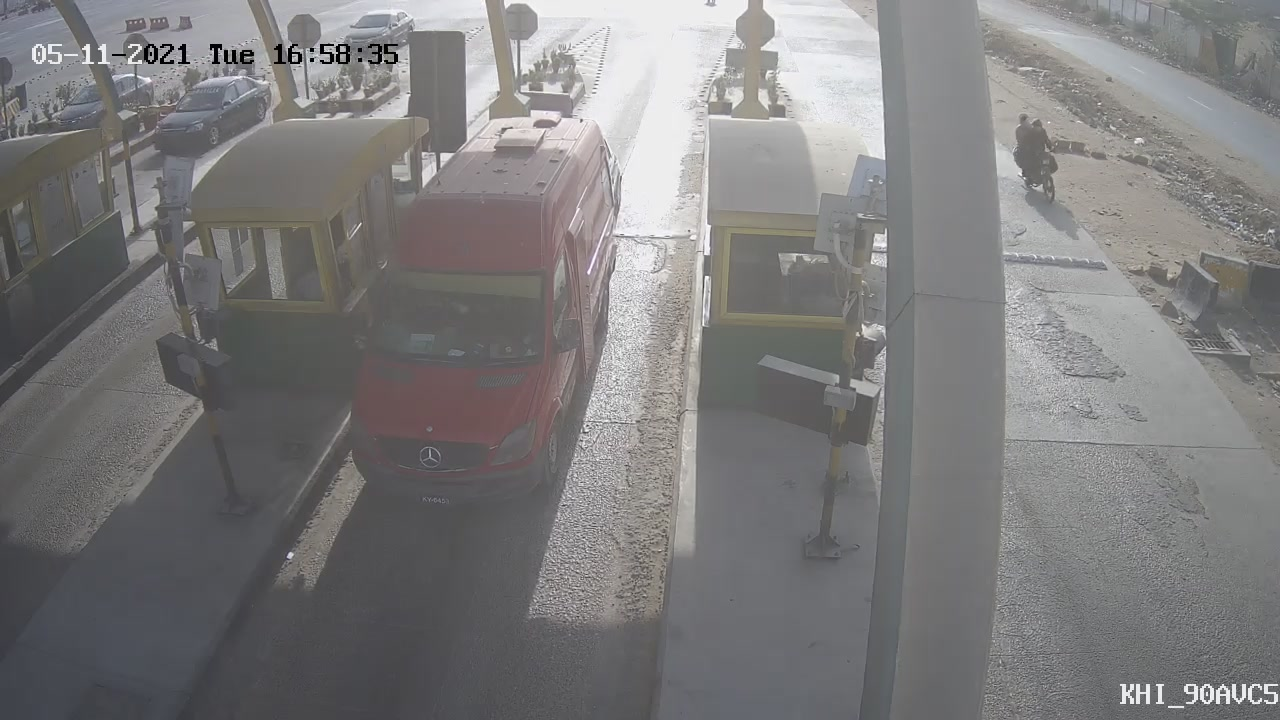F2: (324, 92, 647, 543)
